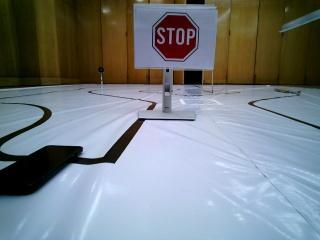stop: (143, 4, 209, 68)
